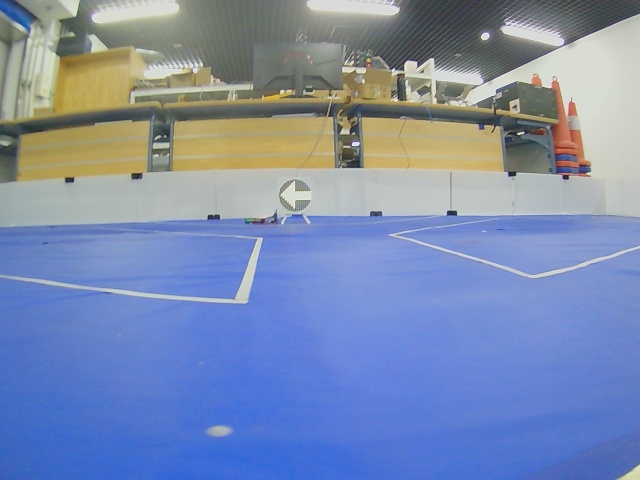left_yellow: (279, 180, 312, 212)
